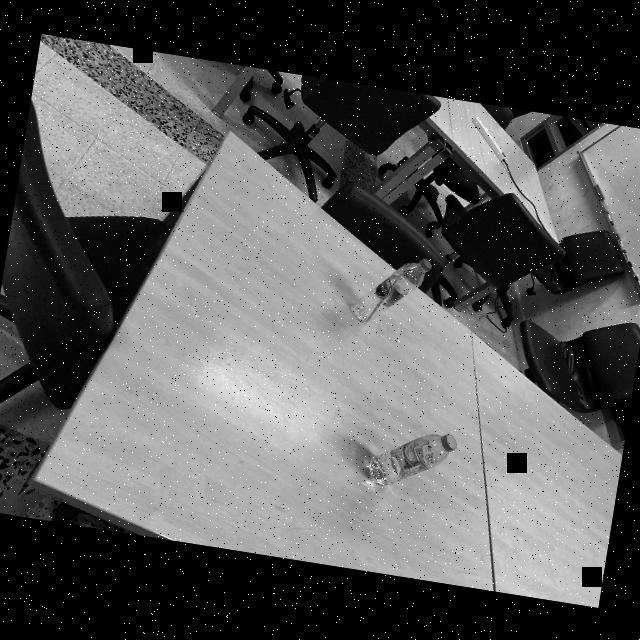plastic_bottle: (346, 246, 436, 332), (364, 420, 460, 496)
plastic_bottle_cap: (438, 431, 461, 453), (419, 258, 433, 272)
straw: (364, 260, 411, 326)
